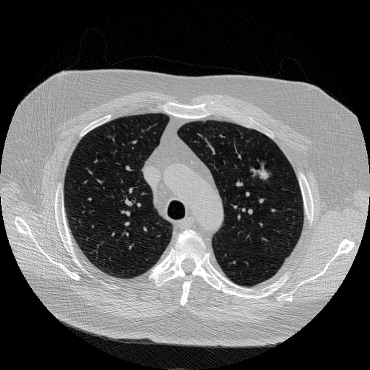nodule: (253, 165, 269, 181)
